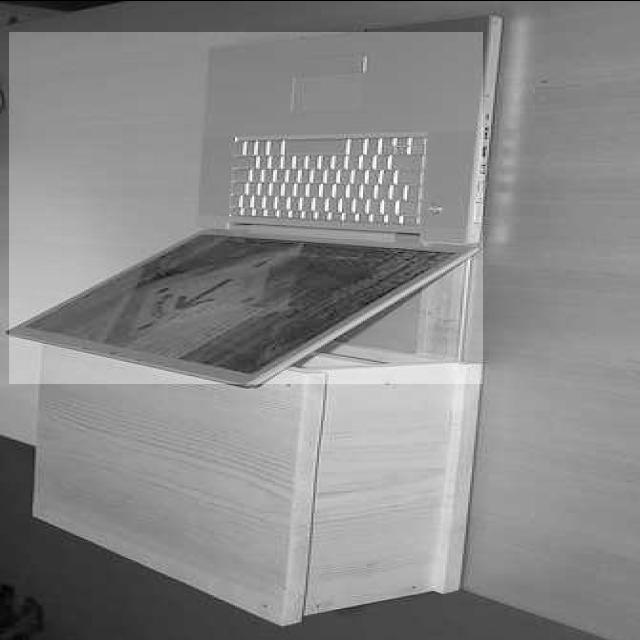-keyboard-: (9, 32, 483, 384)
